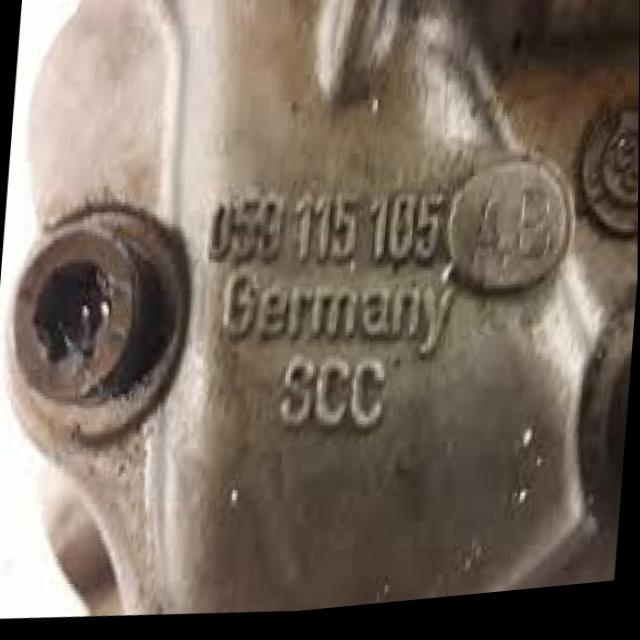ocr: (216, 267, 469, 371), (200, 187, 462, 284), (271, 347, 407, 455)
